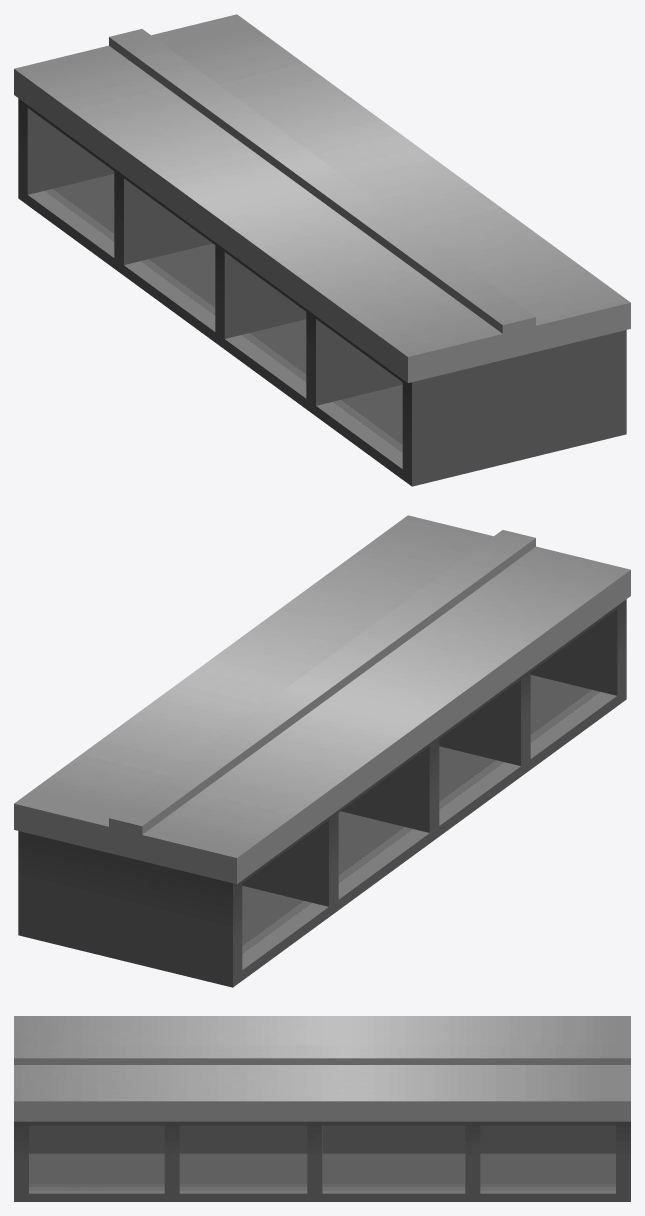
File: Kitchen Counter Top.gltf
3 renders of one model, top to bottom at view 1: azimuth 30°, elevation 25°; view 2: azimuth 150°, elevation 25°; view 3: azimuth 270°, elevation 25°, orthographic. The views are drawn at different scales.
Parts seen in each view (by area): view 1: cube (×10); view 2: cube (×10); view 3: cube (×11).
Boxes of the visible parts, left/top/right/bottom form: cube (×10): left=14, top=14, right=630, bottom=486; cube (×10): left=14, top=515, right=630, bottom=987; cube (×11): left=14, top=1016, right=630, bottom=1201.
Bounding box in the file's own units: 0.4189 × 0.2501 × 1.28.
1 material, 1 textured.
